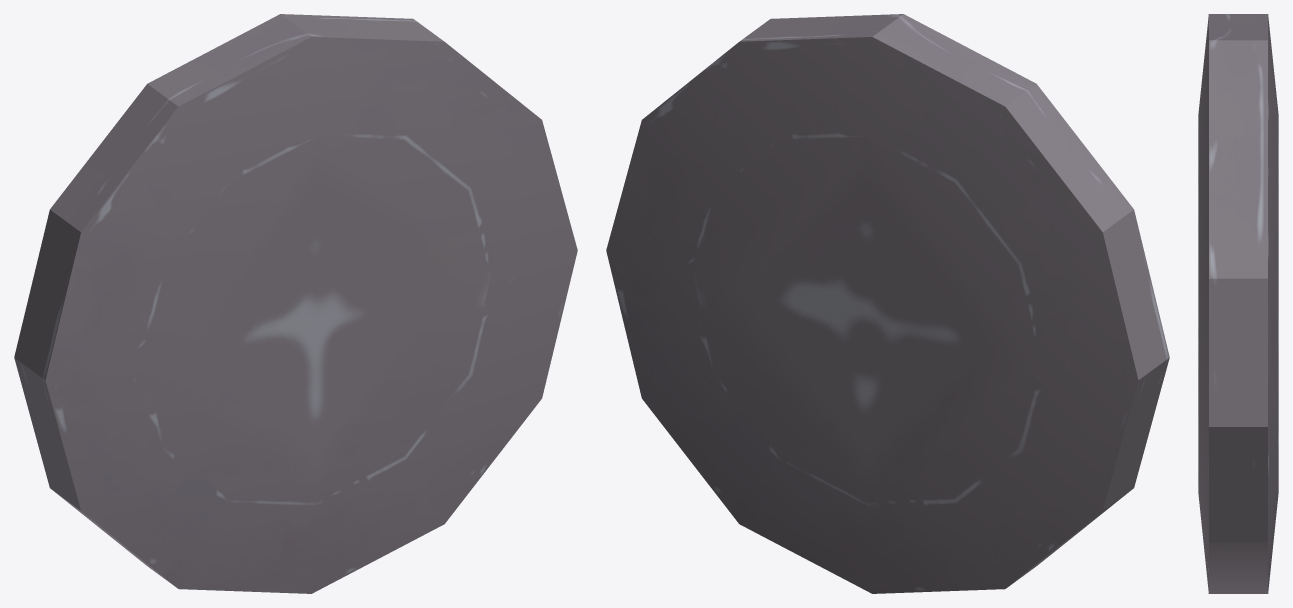
File: Coin_Low.fbx
3 views of the same model, side by side, from view 1: azimuth 30°, elevation 25°; view 2: azimuth 150°, elevation 25°; view 3: azimuth 270°, elevation 25° (orthographic). The views are drawn at different scales.
Parts seen in each view (by area): view 1: Coin_Low; view 2: Coin_Low; view 3: Coin_Low.
Part boxes in pixels (x1=…): Coin_Low: x1=14, y1=14, x2=577, y2=593; Coin_Low: x1=606, y1=14, x2=1169, y2=593; Coin_Low: x1=1198, y1=14, x2=1278, y2=593.
Bounding box in the file's own units: 6.83 × 6.83 × 0.9409.
